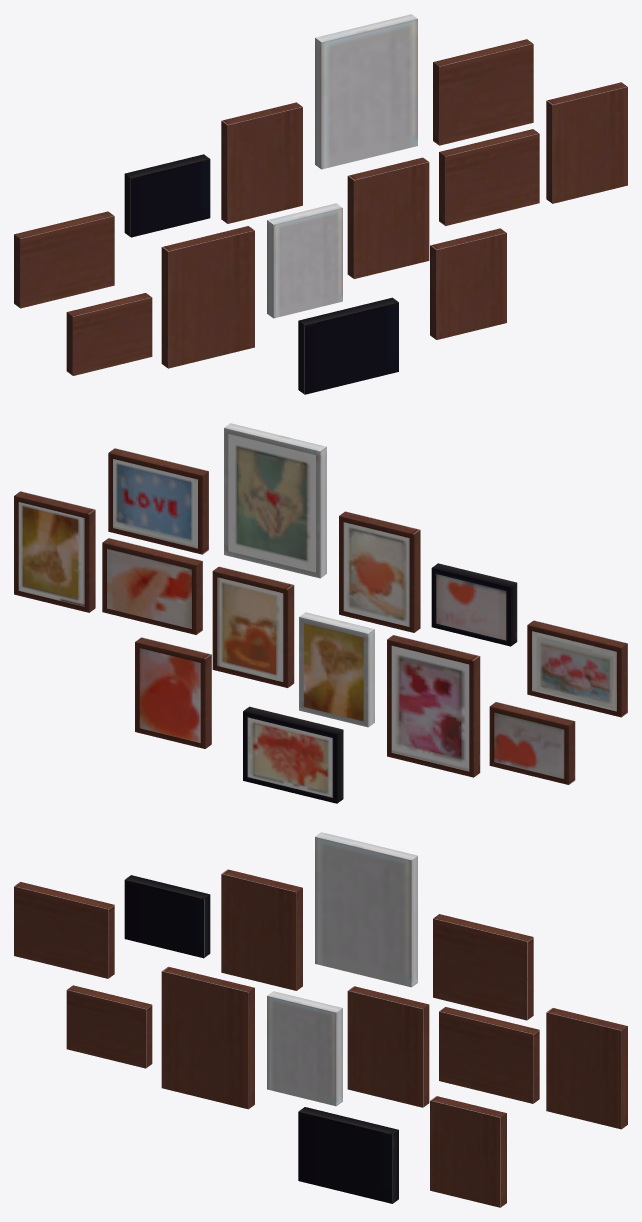
File: furni_0200070_01.FBX
3 views of the same model, one above another, from view 1: azimuth 30°, elevation 25°; view 2: azimuth 150°, elevation 25°; view 3: azimuth 330°, elevation 25° (orthographic).
Visible parts, largest first — view 1: furni_0200070; view 2: furni_0200070; view 3: furni_0200070.
Part boxes in pixels (box(x1,y1,x2,y2)): furni_0200070: box(14, 14, 627, 394); furni_0200070: box(14, 423, 627, 803); furni_0200070: box(14, 832, 627, 1207).
Size of the model in its own units: 161 by 88.32 by 2.98.
